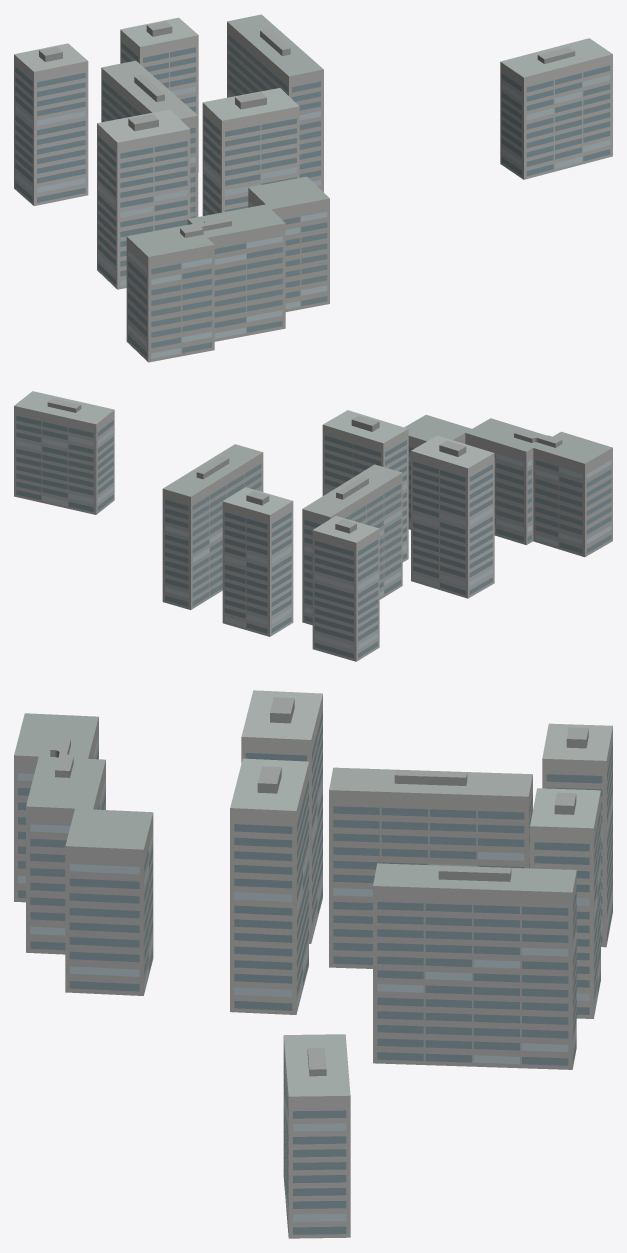
The model's file is apt-a13380602.glb.
The picture shows the model from 3 angles, top to bottom: view 1: azimuth 30°, elevation 25°; view 2: azimuth 150°, elevation 25°; view 3: azimuth 270°, elevation 25°; orthographic projection. The views are drawn at different scales.
Parts seen in each view (by area): view 1: apt-a13380602; view 2: apt-a13380602; view 3: apt-a13380602.
Part boxes in pixels (left/top/right/bottom): apt-a13380602: left=14, top=14, right=612, bottom=362; apt-a13380602: left=14, top=391, right=612, bottom=661; apt-a13380602: left=14, top=690, right=612, bottom=1238.
Size of the model in its own units: 175 by 46 by 117.
